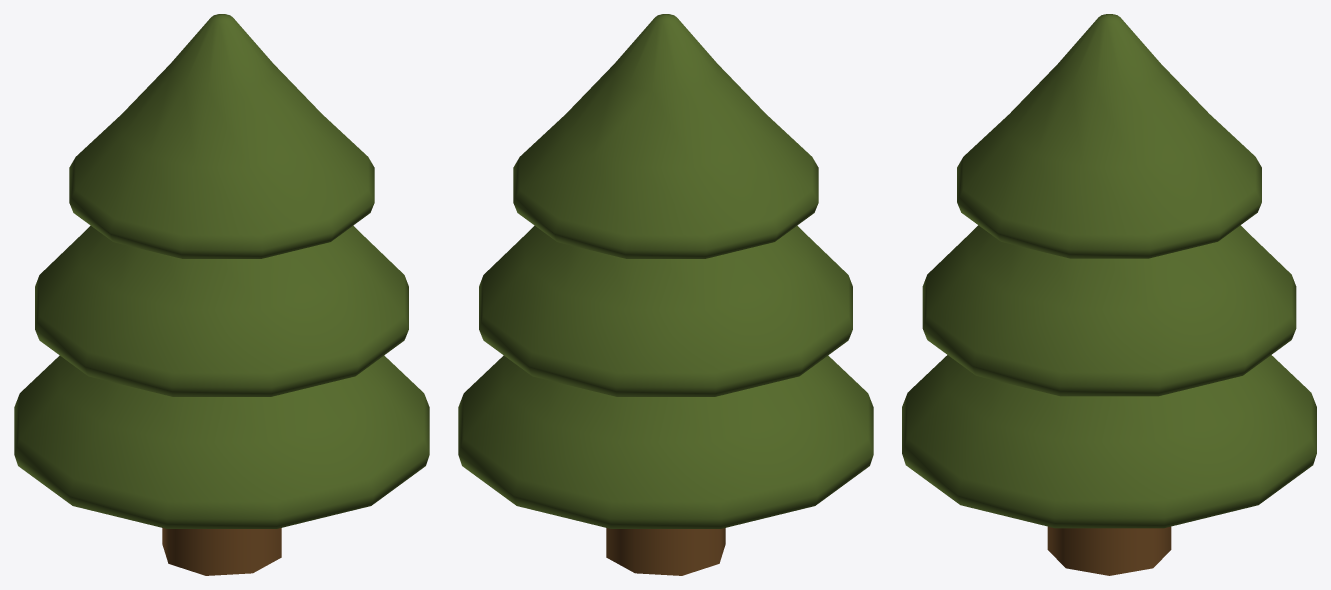
File: tree_3.glb
3 views of the same model, side by side, from view 1: azimuth 30°, elevation 25°; view 2: azimuth 150°, elevation 25°; view 3: azimuth 270°, elevation 25° (orthographic).
Parts seen in each view (by area): view 1: tree_3; view 2: tree_3; view 3: tree_3.
Boxes of the visible parts, x1=… form: tree_3: x1=14, y1=14, x2=429, y2=575; tree_3: x1=458, y1=14, x2=873, y2=575; tree_3: x1=902, y1=14, x2=1316, y2=575.
Bounding box in the file's own units: 2 × 2.84 × 2.
Materials: 1 (1 with a texture image).
